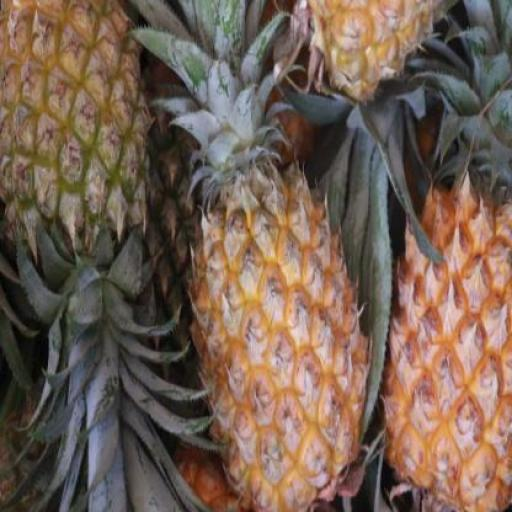------------------------------: (0, 1, 150, 267)
Pineapple - v8 v1: (184, 161, 370, 511), (387, 176, 511, 512)
